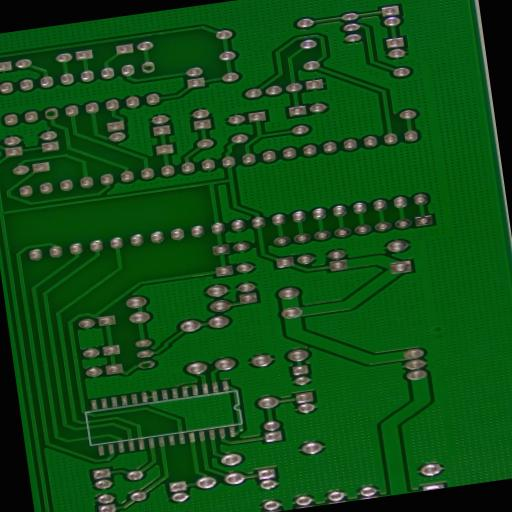missing_hole: (136, 360, 155, 370), (140, 62, 154, 72), (43, 109, 57, 119)
